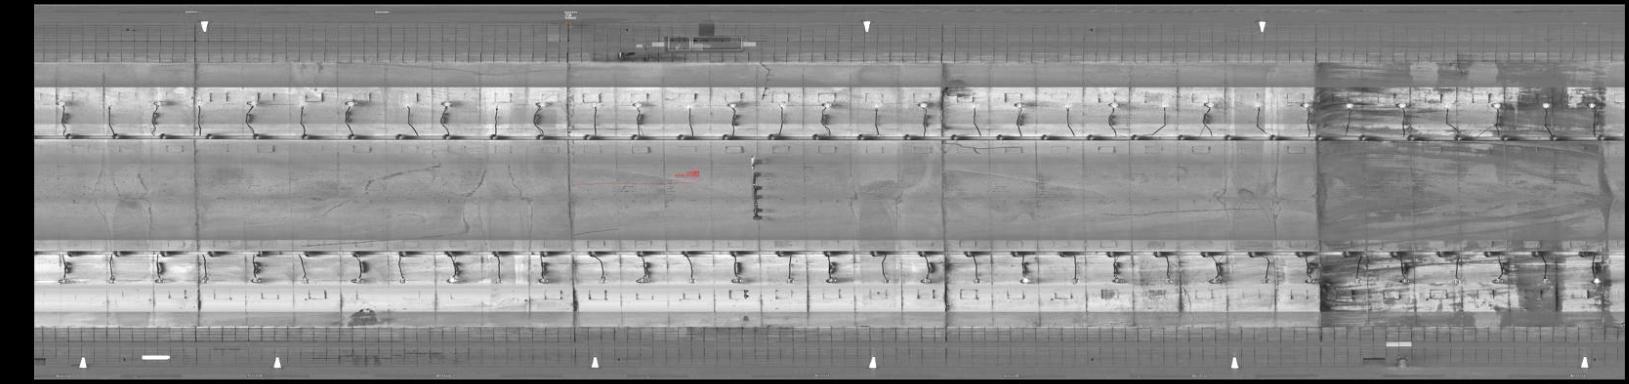light: (634, 273, 657, 289), (1485, 95, 1505, 112), (1300, 274, 1321, 287), (436, 95, 455, 111), (338, 95, 357, 110), (684, 274, 703, 289), (1196, 98, 1217, 111), (1583, 274, 1604, 287), (240, 95, 258, 111), (485, 98, 504, 112), (442, 274, 463, 286), (623, 98, 646, 109), (724, 275, 747, 286), (583, 99, 604, 111), (1390, 99, 1411, 111), (1393, 275, 1414, 287), (146, 95, 164, 110), (1438, 98, 1456, 112), (1537, 97, 1554, 111), (596, 273, 614, 287), (527, 98, 546, 110), (1246, 97, 1265, 109), (1207, 275, 1227, 287), (1106, 97, 1123, 111), (291, 97, 309, 110), (1107, 274, 1125, 287), (967, 274, 985, 287), (720, 99, 741, 110), (1533, 275, 1556, 285), (781, 275, 800, 287), (912, 99, 932, 110), (1489, 274, 1508, 285), (393, 274, 412, 285), (347, 275, 367, 286), (678, 99, 695, 112), (1296, 99, 1313, 111), (1446, 275, 1464, 287), (103, 275, 121, 287), (54, 275, 72, 287), (190, 98, 205, 112), (196, 273, 211, 287), (102, 98, 117, 111), (397, 98, 413, 110), (965, 98, 982, 110), (1583, 99, 1600, 111), (1350, 275, 1366, 287), (1256, 276, 1276, 286), (295, 275, 315, 285), (150, 275, 167, 286), (814, 100, 835, 109), (821, 275, 839, 285), (1017, 275, 1034, 286), (247, 275, 264, 286), (877, 277, 894, 287), (1161, 275, 1175, 289), (52, 98, 68, 109), (1067, 275, 1083, 286), (1338, 101, 1357, 110), (534, 275, 551, 285), (490, 275, 507, 285), (1155, 99, 1170, 110), (1059, 102, 1076, 111), (916, 275, 932, 285), (775, 98, 787, 110), (1011, 99, 1027, 108), (867, 101, 881, 111)
